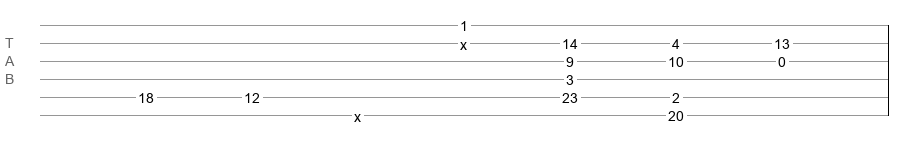0: (778, 54, 786, 64)
1: (460, 18, 468, 28)
10: (668, 54, 684, 64)
12: (244, 90, 260, 100)
13: (774, 36, 790, 46)
14: (562, 36, 578, 46)
18: (138, 90, 154, 100)
2: (672, 90, 680, 100)
20: (668, 108, 684, 118)
23: (562, 90, 578, 100)
3: (566, 72, 574, 82)
4: (672, 36, 680, 46)
9: (566, 54, 574, 64)
x: (354, 109, 361, 117), (460, 37, 467, 45)
